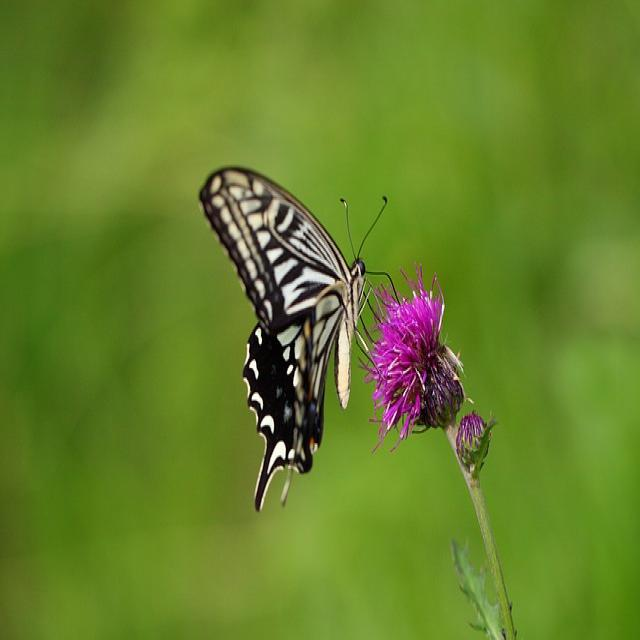butterfly: (200, 169, 365, 510)
